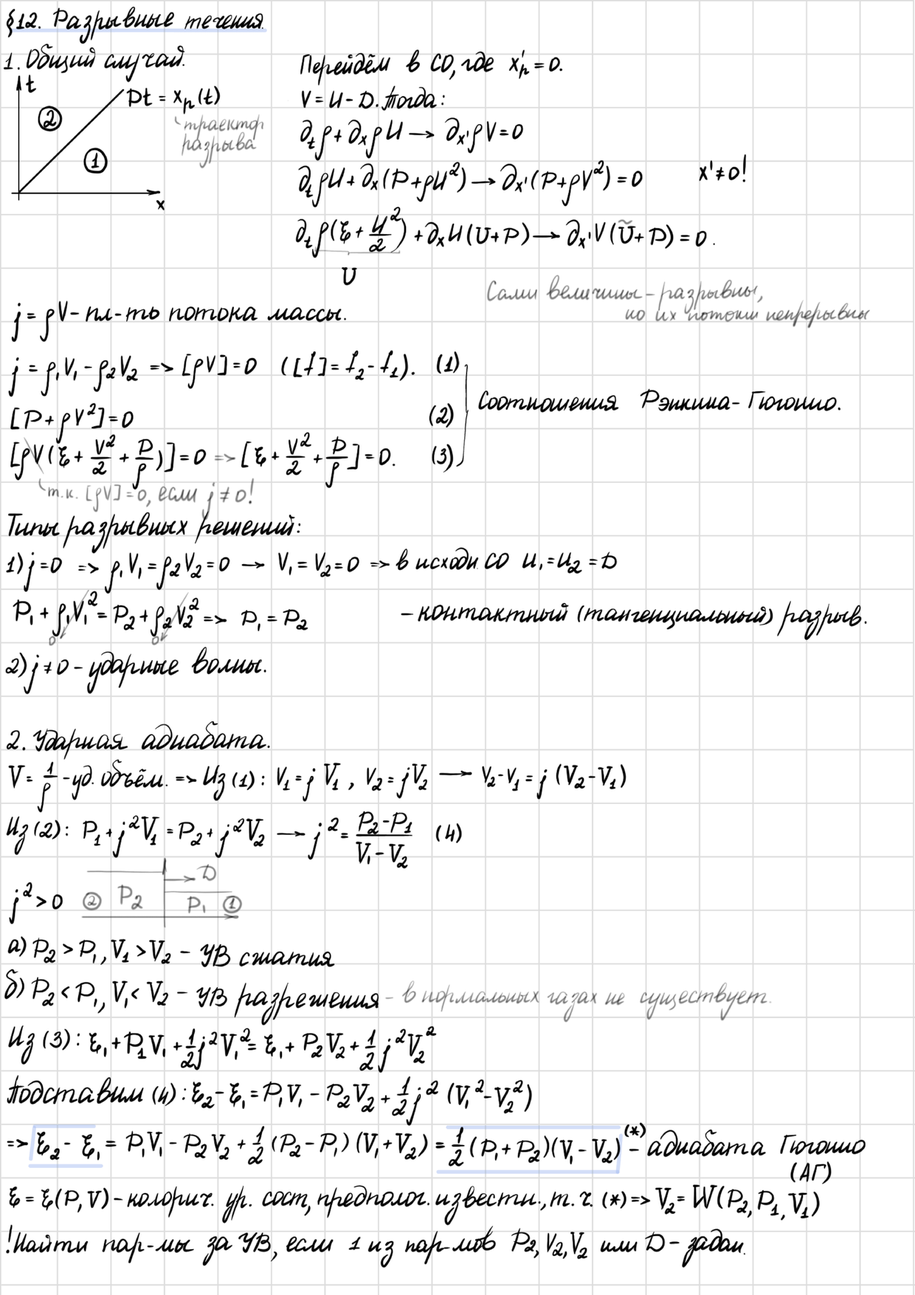formula: (6, 1125, 627, 1175), (91, 1026, 446, 1069), (195, 1079, 532, 1119), (4, 598, 313, 636), (288, 212, 534, 257), (8, 433, 208, 478), (234, 430, 405, 478), (82, 813, 271, 854), (655, 1184, 823, 1227), (269, 762, 430, 804), (564, 213, 717, 257), (311, 813, 422, 871), (478, 759, 636, 799), (25, 550, 234, 580), (290, 163, 473, 195), (500, 161, 645, 198), (29, 976, 170, 1014), (30, 937, 174, 973), (6, 353, 141, 385), (5, 403, 136, 432), (4, 1183, 106, 1218), (299, 118, 406, 151), (179, 348, 264, 387), (0, 757, 66, 807), (520, 546, 618, 579), (271, 548, 357, 580), (441, 117, 525, 148), (8, 300, 69, 342), (12, 881, 69, 923), (507, 47, 568, 84), (123, 84, 222, 105), (290, 87, 373, 108), (27, 658, 76, 684)
picture: (2, 78, 172, 206), (75, 860, 245, 936)
text: (7, 1224, 747, 1269), (174, 983, 771, 1019), (114, 1181, 649, 1220), (400, 599, 872, 631), (474, 387, 852, 417), (630, 1122, 872, 1168), (5, 509, 305, 540), (75, 304, 344, 334), (4, 8, 267, 36), (6, 1073, 189, 1113), (62, 765, 267, 800), (5, 729, 272, 755), (490, 276, 766, 301), (289, 48, 497, 77), (625, 306, 871, 330), (80, 659, 276, 686), (1, 44, 184, 72), (179, 943, 342, 972), (388, 546, 504, 575), (1, 816, 74, 851), (6, 1025, 82, 1057), (378, 87, 449, 117), (779, 1159, 839, 1183)
